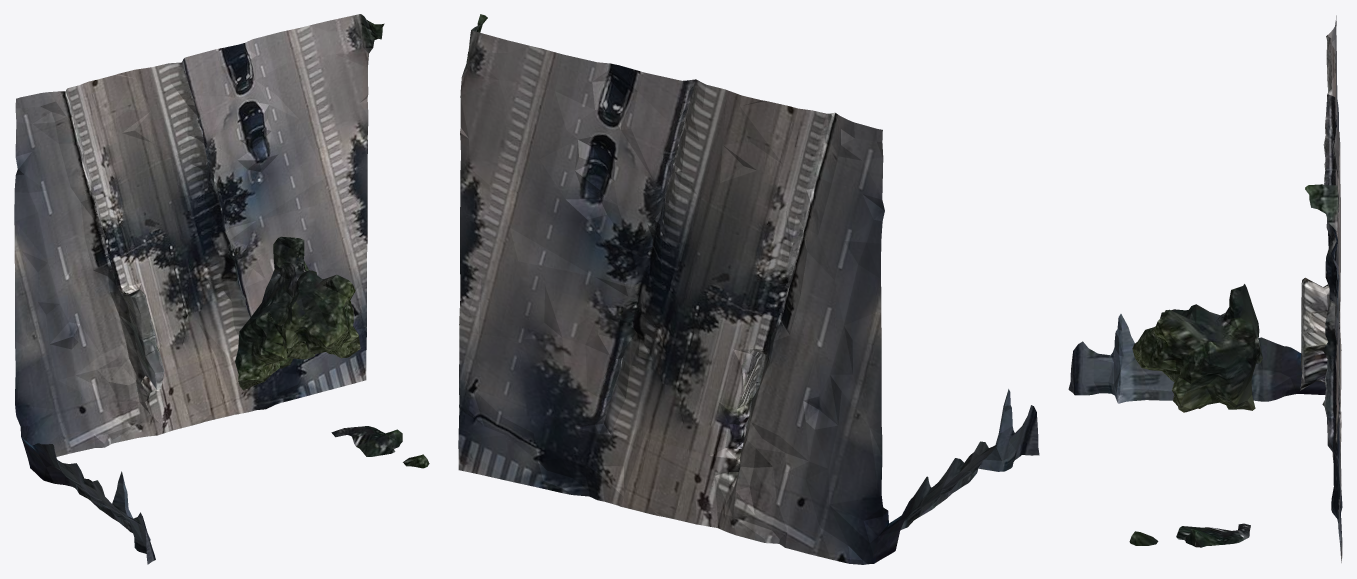
The model's file is Tile_+031_+024_L20_0002120.obj.
3 renders of one model, left to right at view 1: azimuth 30°, elevation 25°; view 2: azimuth 150°, elevation 25°; view 3: azimuth 270°, elevation 25°, orthographic. The views are drawn at different scales.
Bounding box in the file's own units: 31.5 × 31.5 × 20.82.
Materials: 1 (1 with a texture image).
